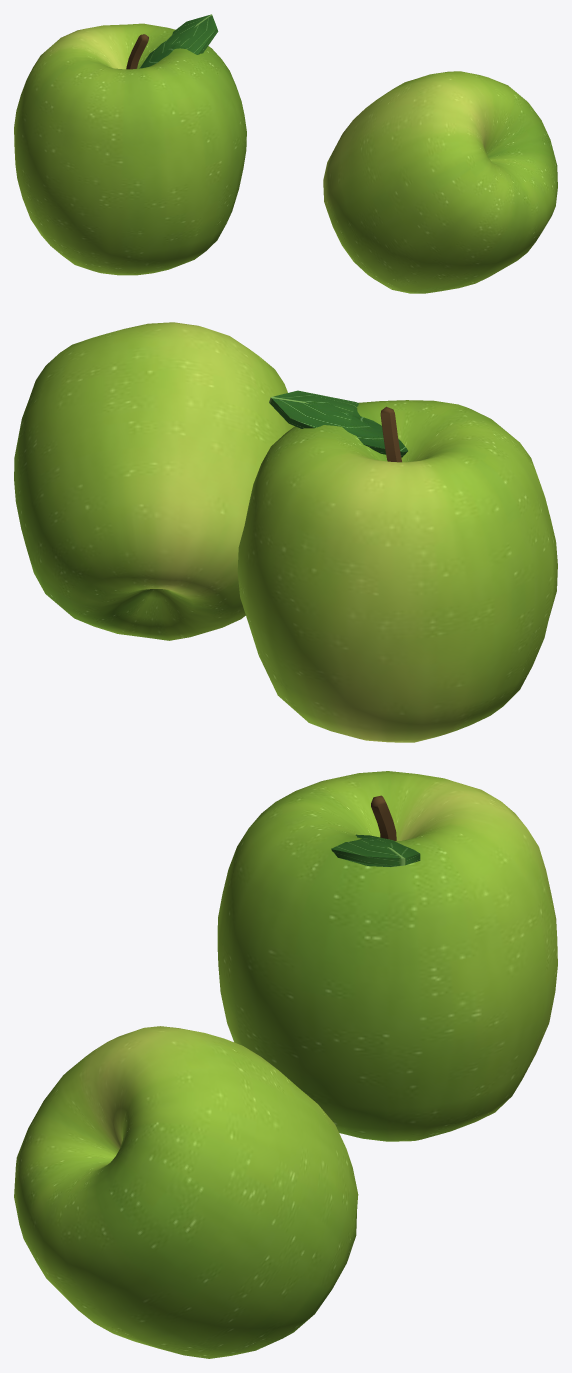
Rendered from fruit_apple_green_pair.glb.
3 views of the same model, one above another, from view 1: azimuth 30°, elevation 25°; view 2: azimuth 150°, elevation 25°; view 3: azimuth 270°, elevation 25° (orthographic). The views are drawn at different scales.
Parts seen in each view (by area): view 1: fruit_apple_green_pair; view 2: fruit_apple_green_pair; view 3: fruit_apple_green_pair.
Boxes of the visible parts, x1,y1,x2,y2 form: fruit_apple_green_pair: [14, 14, 557, 293]; fruit_apple_green_pair: [14, 322, 557, 742]; fruit_apple_green_pair: [14, 771, 557, 1358].
Bounding box in the file's own units: 0.1587 × 0.0906 × 0.1151.
Materials: 3 (2 with a texture image).
